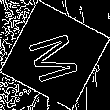M_E: (24, 26, 86, 84)
